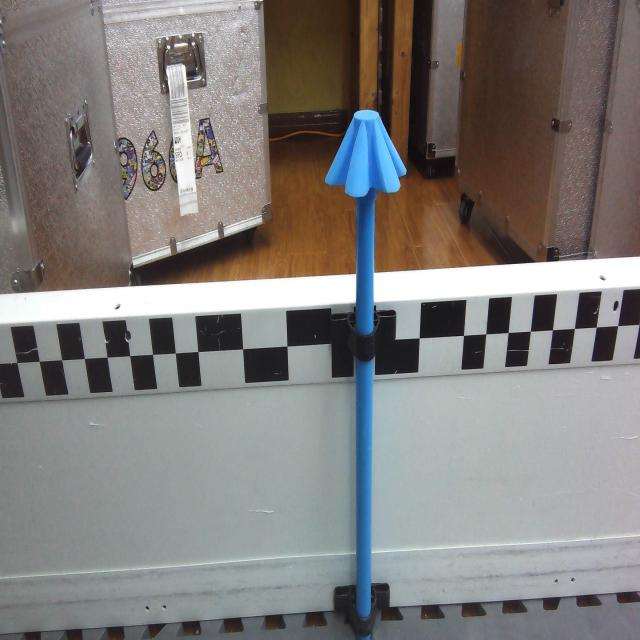zblue-Stake-Head: (324, 110, 406, 198)
